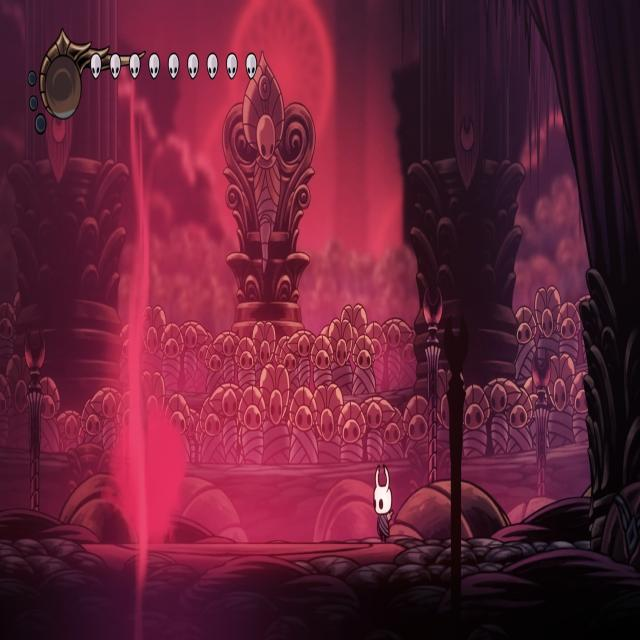Player: (370, 460, 397, 546)
